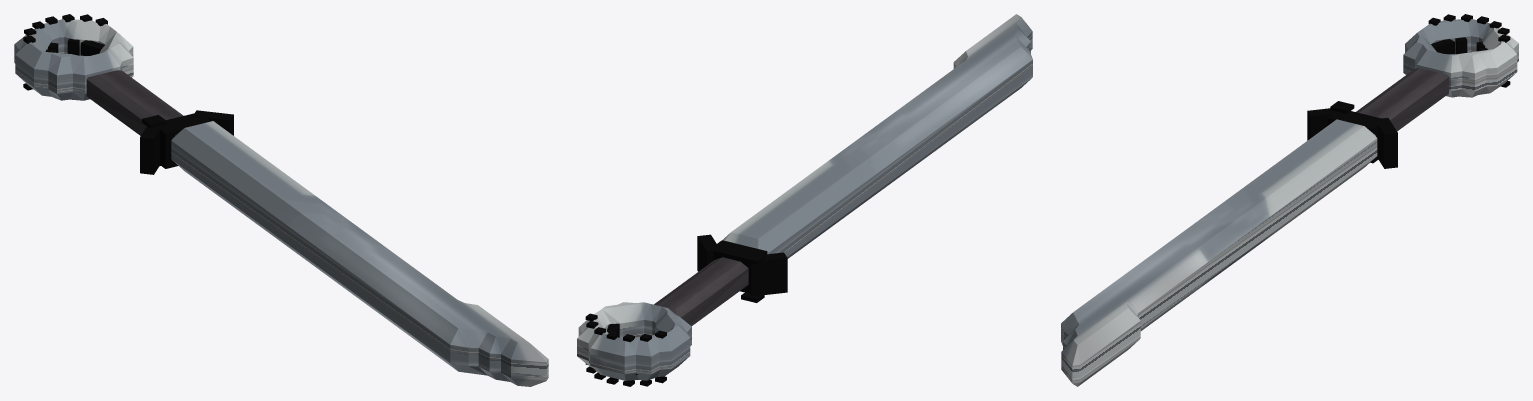
The model's file is ring_pommel_dao.obj.
The picture shows the model from 3 angles, left to right: view 1: azimuth 30°, elevation 25°; view 2: azimuth 150°, elevation 25°; view 3: azimuth 330°, elevation 25°; orthographic projection. The views are drawn at different scales.
Visible parts, largest first — view 1: ring_pommel_dao; view 2: ring_pommel_dao; view 3: ring_pommel_dao.
Boxes of the visible parts, x1=… form: ring_pommel_dao: x1=14, y1=14, x2=548, y2=386; ring_pommel_dao: x1=577, y1=14, x2=1032, y2=386; ring_pommel_dao: x1=1061, y1=14, x2=1518, y2=386.
Size of the model in its own units: 0.1562 by 0.0756 by 1.28.
